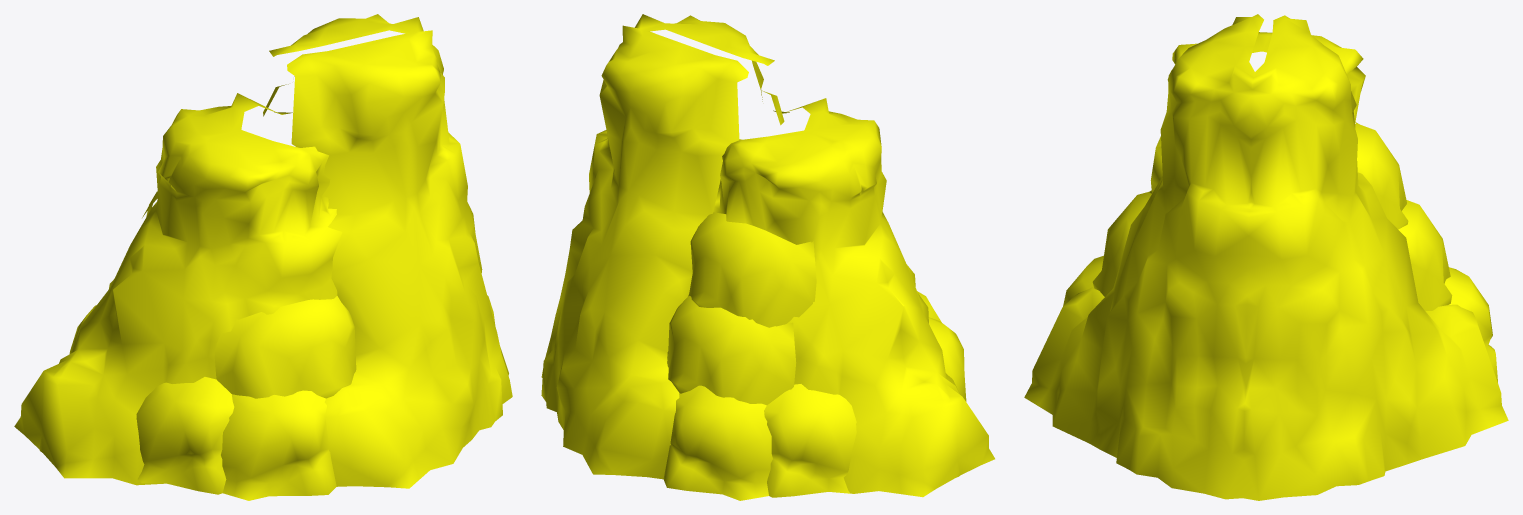
File: guild_pvp_3.glb
3 views of the same model, side by side, from view 1: azimuth 30°, elevation 25°; view 2: azimuth 150°, elevation 25°; view 3: azimuth 270°, elevation 25° (orthographic). The views are drawn at different scales.
Parts seen in each view (by area): view 1: Object02, Object01; view 2: Object02, Object01; view 3: Object02, Object01.
Part boxes in pixels (x1,y1,x2,y2): Object02: [69, 14, 512, 500]; Object01: [14, 93, 342, 485]; Object02: [541, 14, 966, 500]; Object01: [667, 98, 994, 497]; Object02: [1024, 14, 1508, 500]; Object01: [1149, 32, 1365, 193].
Size of the model in its own units: 82.86 by 66.11 by 73.17.
Materials: 2 (2 with a texture image).
